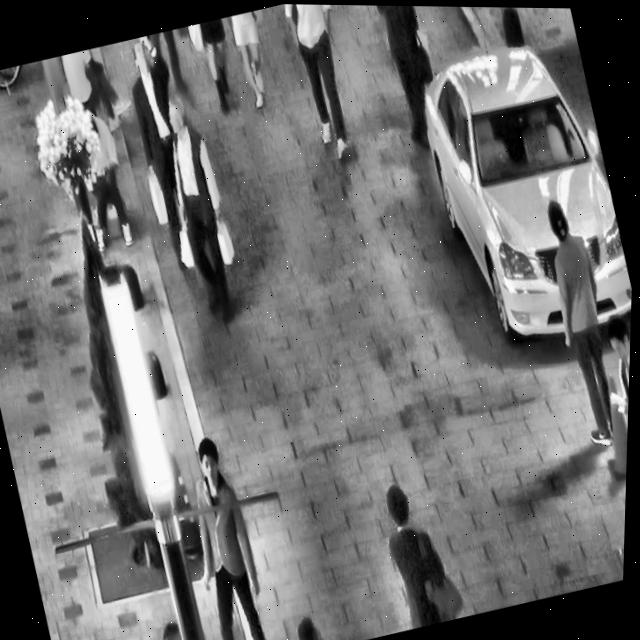light_vehicle: (396, 8, 640, 366)
